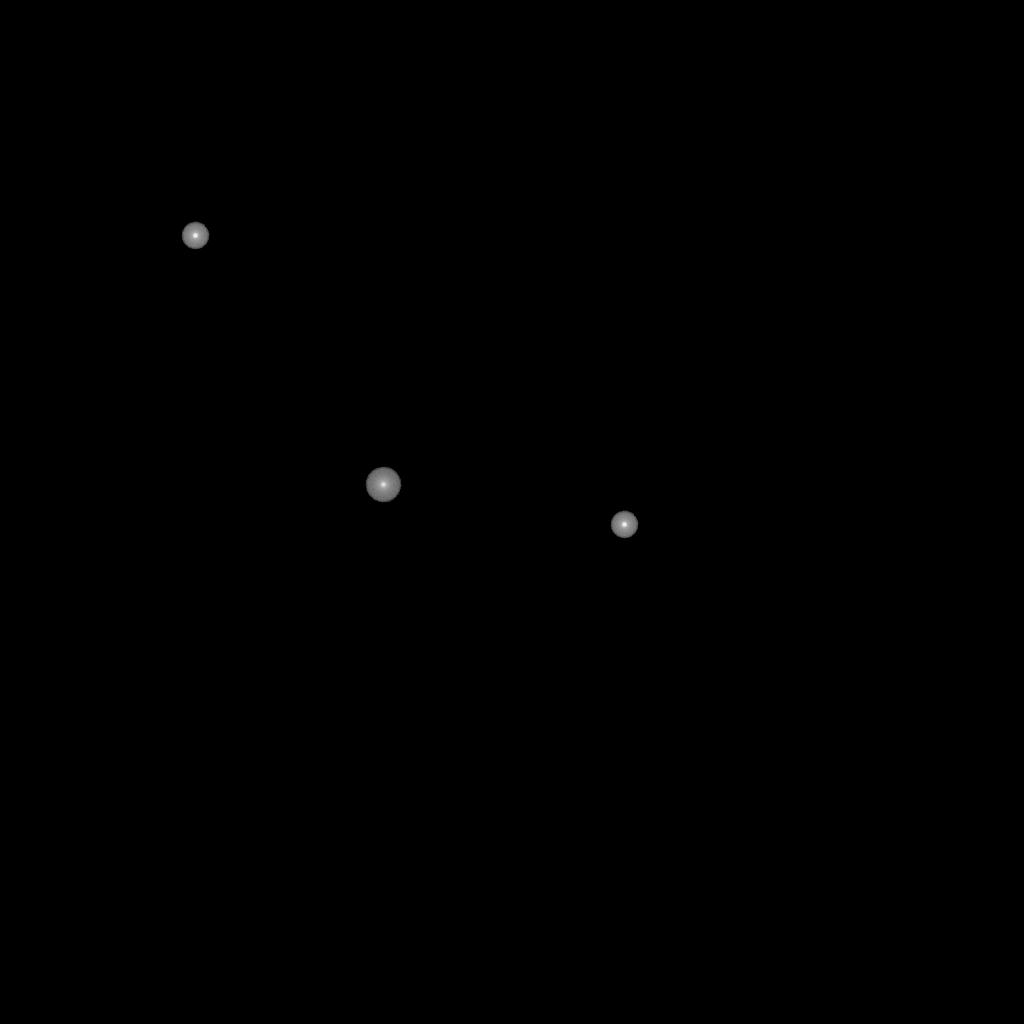depth:-10: (610, 511, 638, 539), (181, 222, 209, 250)
depth:0: (365, 467, 401, 503)
